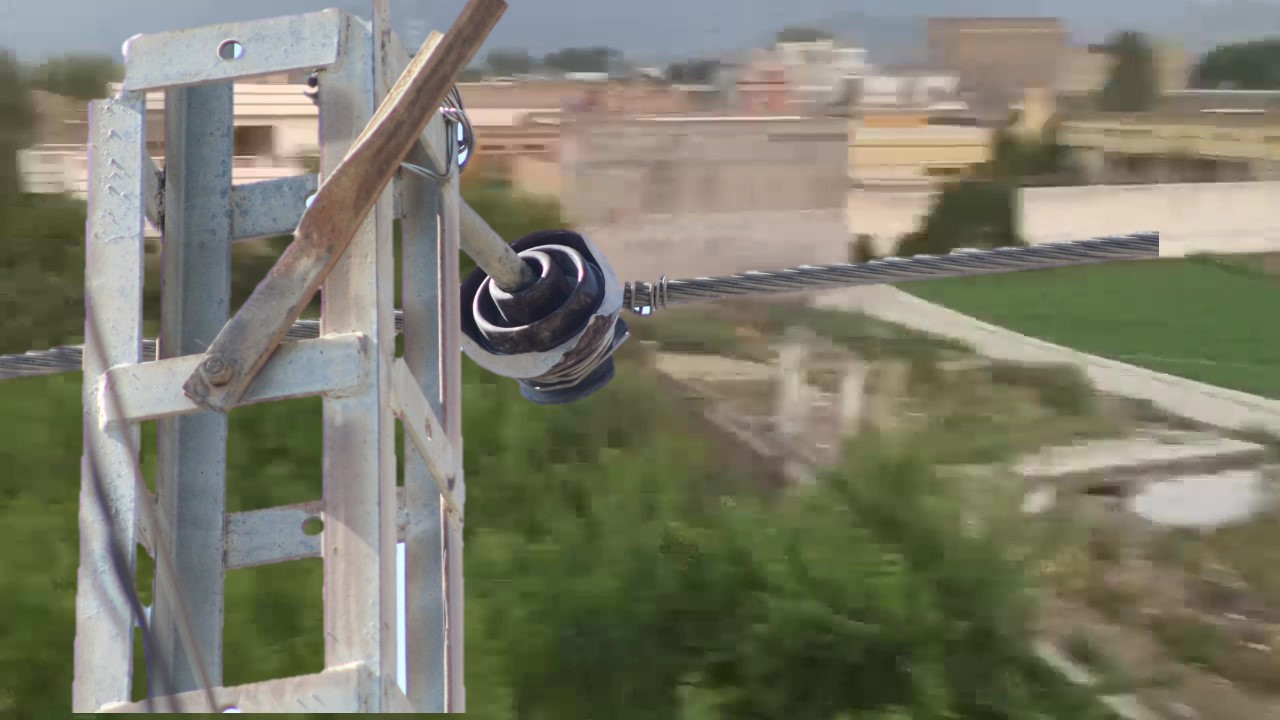defect_pin: (458, 227, 636, 414)
